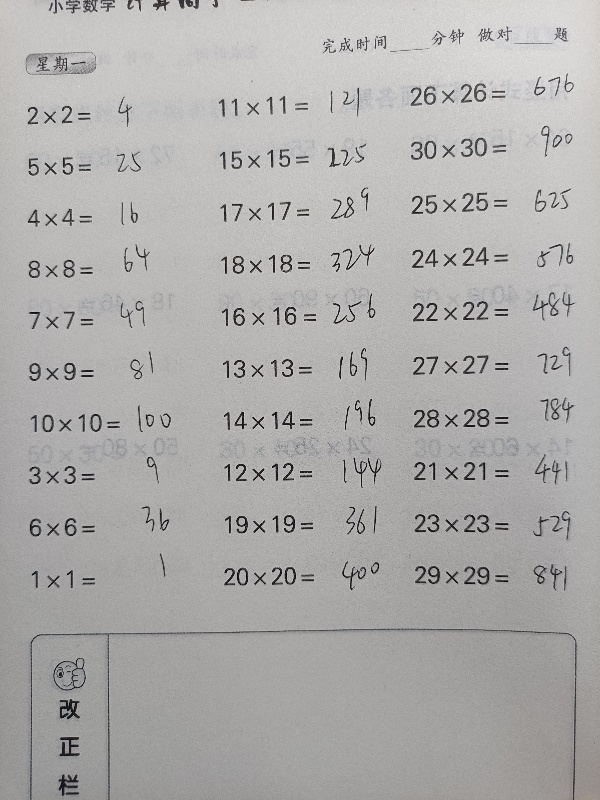equation: (204, 184, 391, 228), (25, 548, 190, 595), (14, 241, 196, 281), (217, 293, 393, 333), (21, 504, 201, 541), (25, 295, 179, 336), (403, 293, 583, 328), (403, 239, 583, 274), (402, 185, 582, 220), (210, 141, 390, 176), (401, 130, 581, 165), (401, 76, 581, 111), (215, 559, 395, 593), (406, 558, 586, 592), (216, 507, 396, 541), (405, 506, 585, 540), (21, 458, 201, 492), (216, 455, 396, 489), (405, 454, 585, 488), (22, 406, 202, 440), (214, 403, 394, 437), (404, 401, 584, 435), (21, 355, 201, 389), (214, 351, 394, 385), (403, 348, 583, 382), (212, 247, 392, 281), (209, 89, 389, 122), (23, 148, 177, 185), (27, 199, 168, 237), (19, 95, 160, 132)
